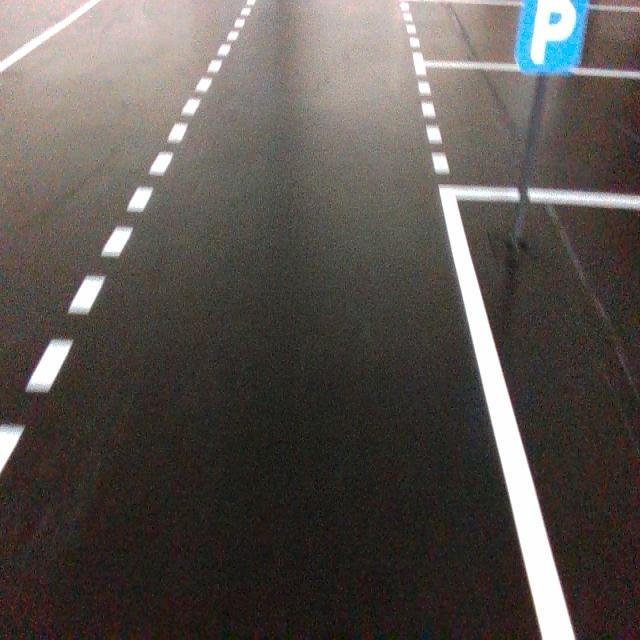parking-sign: (513, 0, 590, 75)
